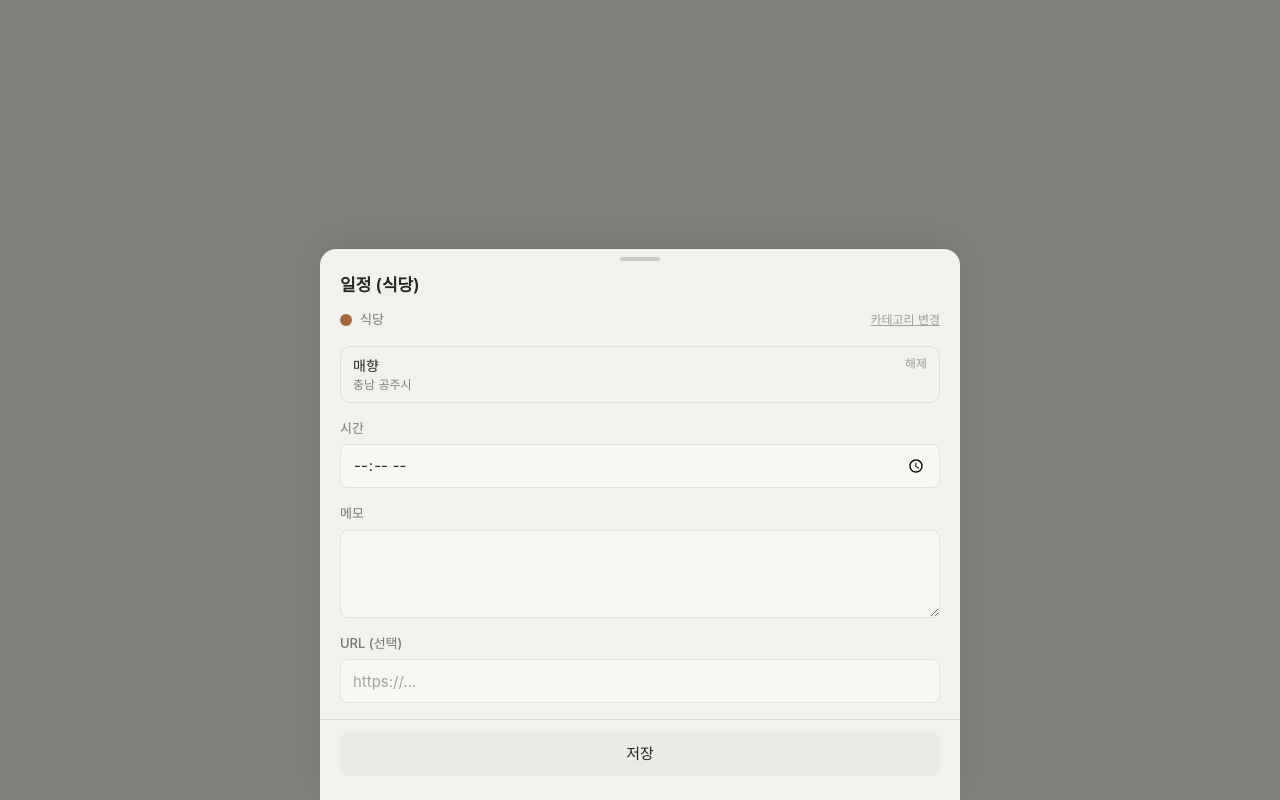
Test: schedule-item-modal — 편집 중 카테고리 변경 › 카테고리 변경 후 '기타'를 선택해도 제목이 유지된다
Click the button "카테고리 변경" at (905, 320), box x1=870 y1=311 x2=940 y2=329
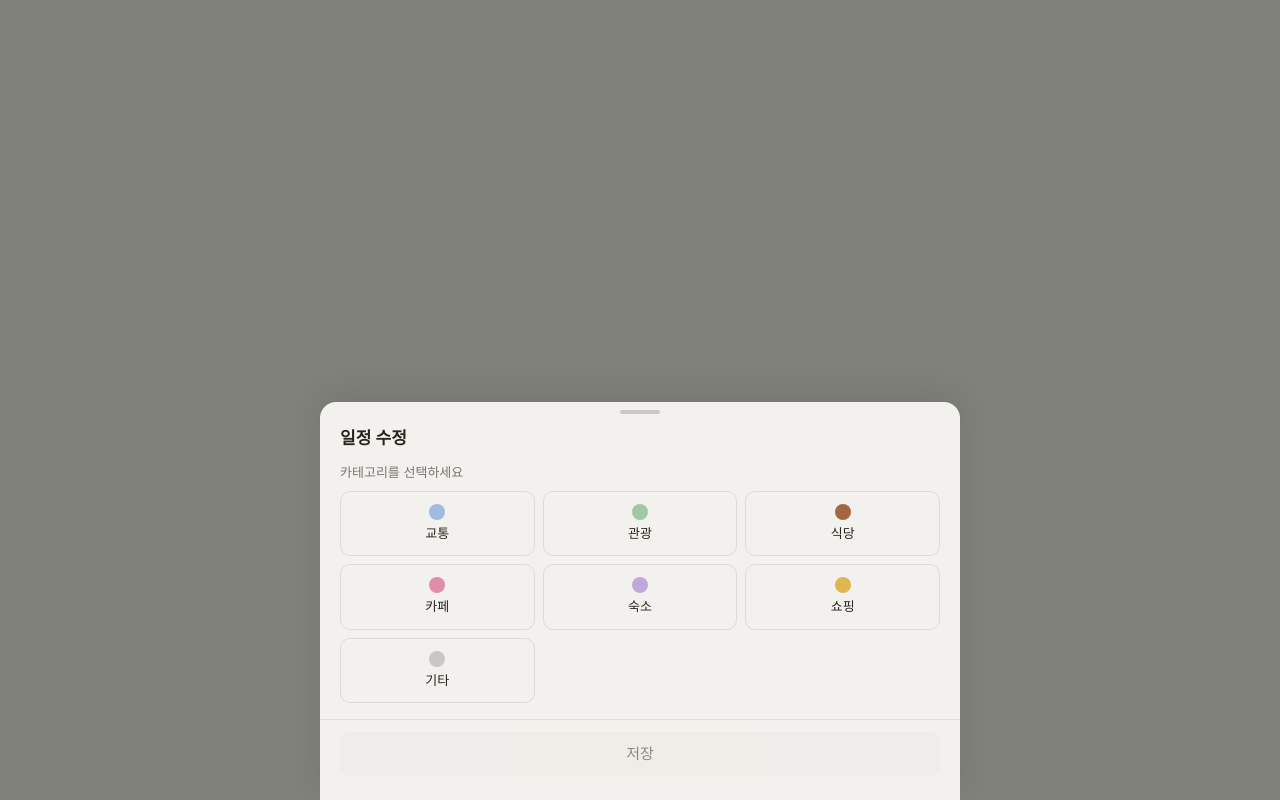
Click the radio button labelled "기타" at (437, 670), box x1=340 y1=638 x2=535 y2=703
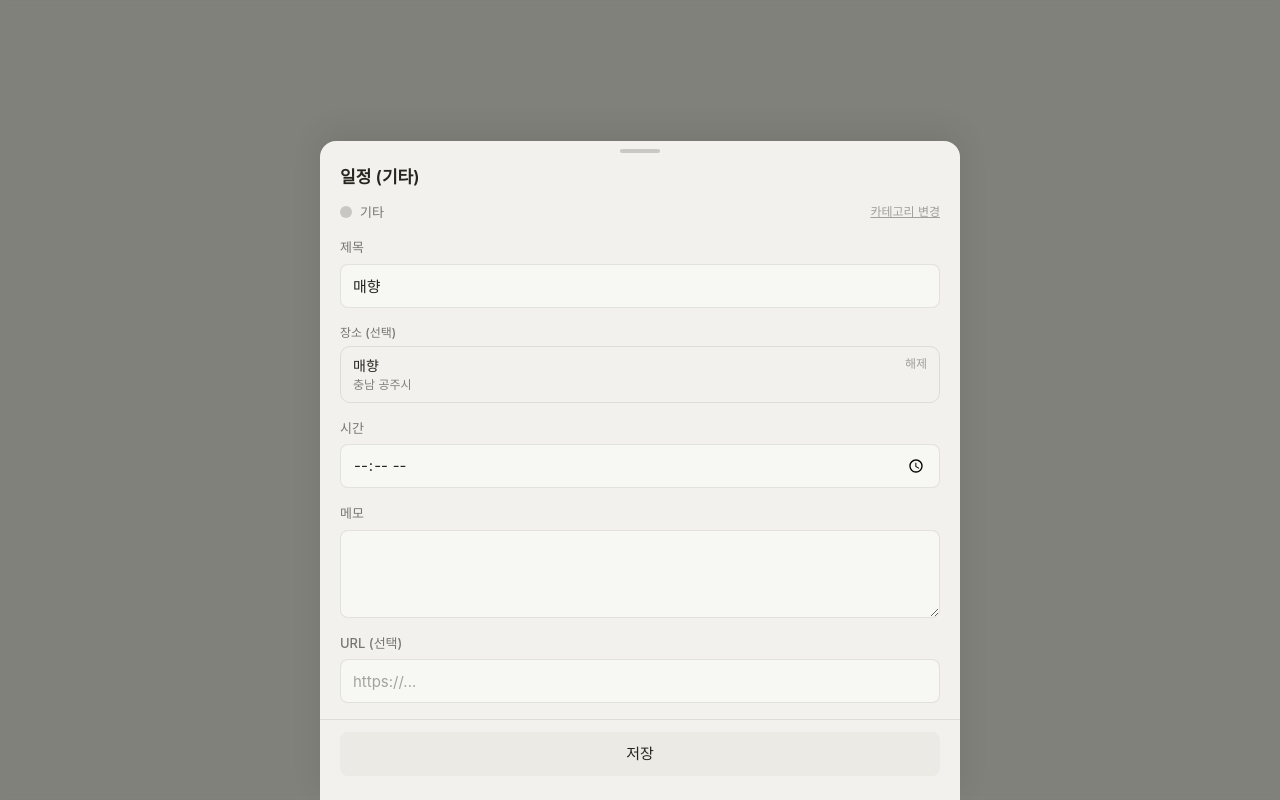
expect the field labelled "제목" holds "매향": met, box x1=340 y1=264 x2=940 y2=308
expect the button "저장" is enabled: met, box x1=340 y1=732 x2=940 y2=776
